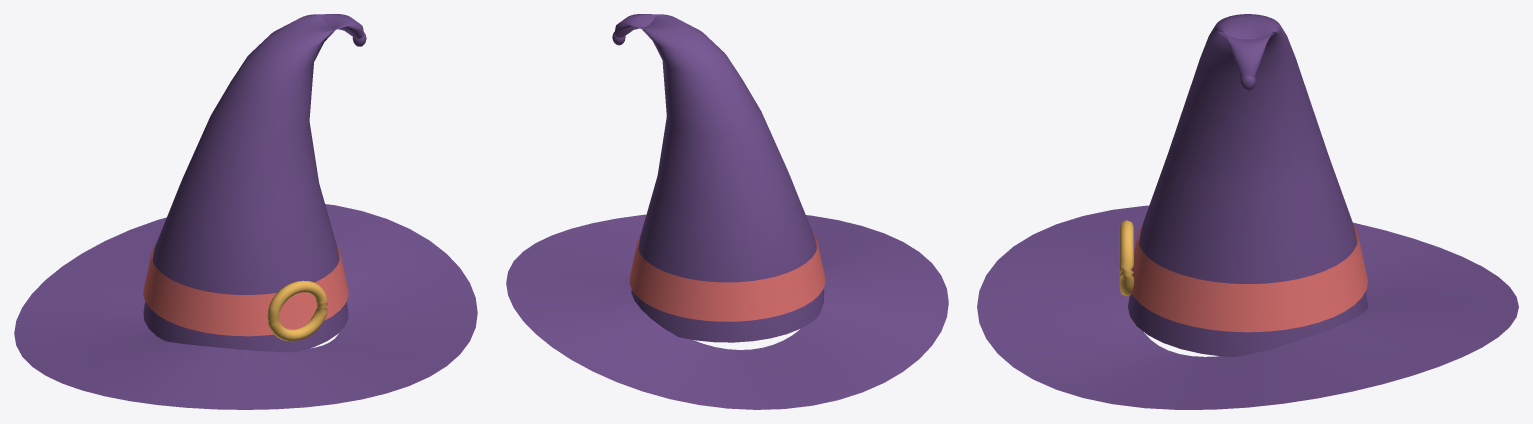
The model's file is witch-hat.glb.
The picture shows the model from 3 angles, left to right: view 1: azimuth 30°, elevation 25°; view 2: azimuth 150°, elevation 25°; view 3: azimuth 270°, elevation 25°; orthographic projection. The views are drawn at different scales.
Parts seen in each view (by area): view 1: wavy-brim, curled-cone, apricot-band, round-buckle; view 2: wavy-brim, curled-cone, apricot-band; view 3: wavy-brim, curled-cone, apricot-band, round-buckle.
Part boxes in pixels (bbox=[...]): wavy-brim: bbox=[14, 204, 477, 409]; curled-cone: bbox=[143, 14, 363, 352]; apricot-band: bbox=[143, 243, 348, 336]; round-buckle: bbox=[267, 280, 328, 341]; wavy-brim: bbox=[506, 214, 948, 409]; curled-cone: bbox=[614, 14, 824, 342]; apricot-band: bbox=[629, 233, 825, 321]; wavy-brim: bbox=[977, 205, 1518, 409]; curled-cone: bbox=[1128, 14, 1367, 357]; apricot-band: bbox=[1131, 224, 1367, 332]; round-buckle: bbox=[1119, 220, 1133, 296].
Size of the model in its own units: 1 by 0.6962 by 1.
